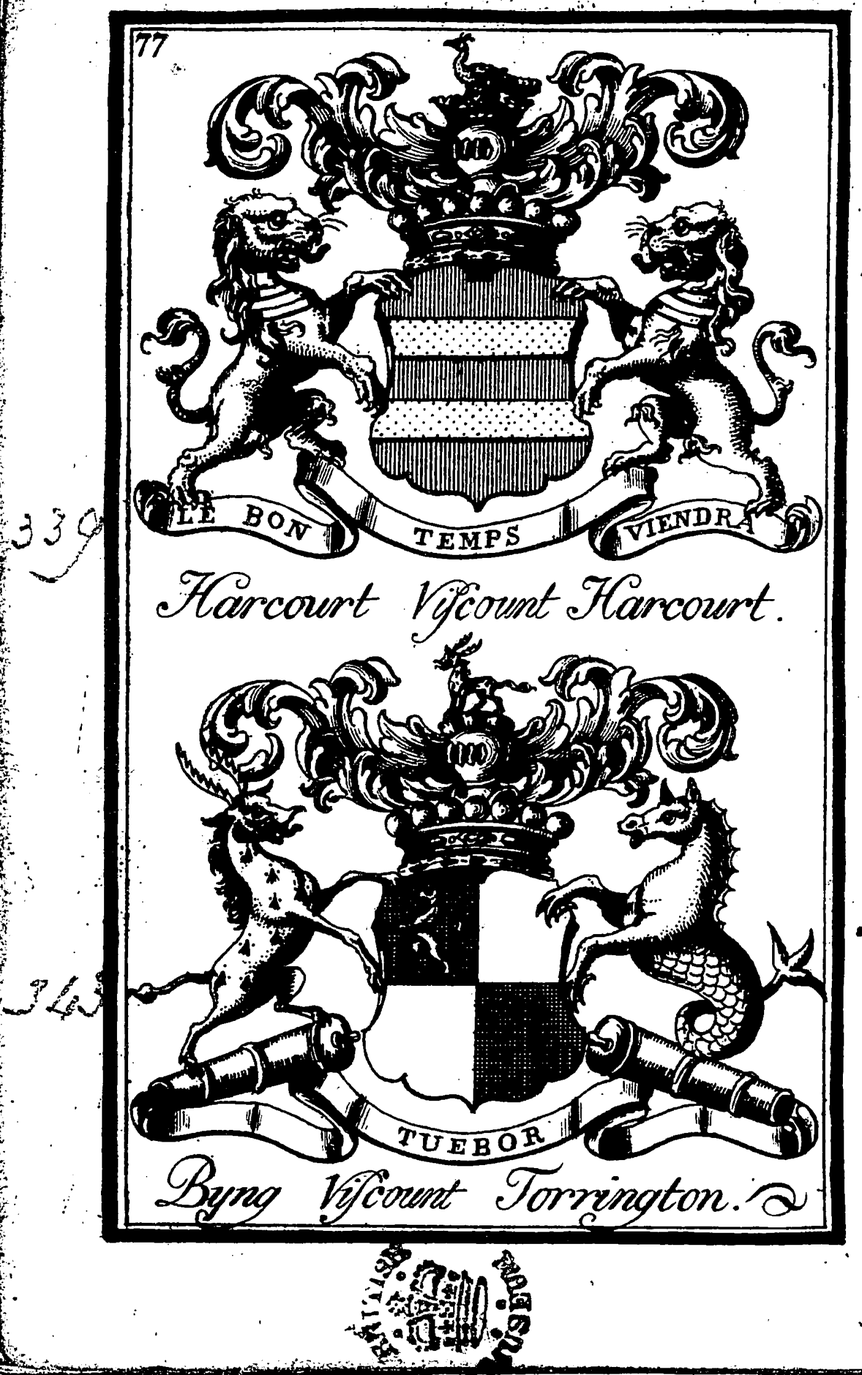coat_of_arms: (144, 633, 823, 1229), (144, 31, 806, 635)
